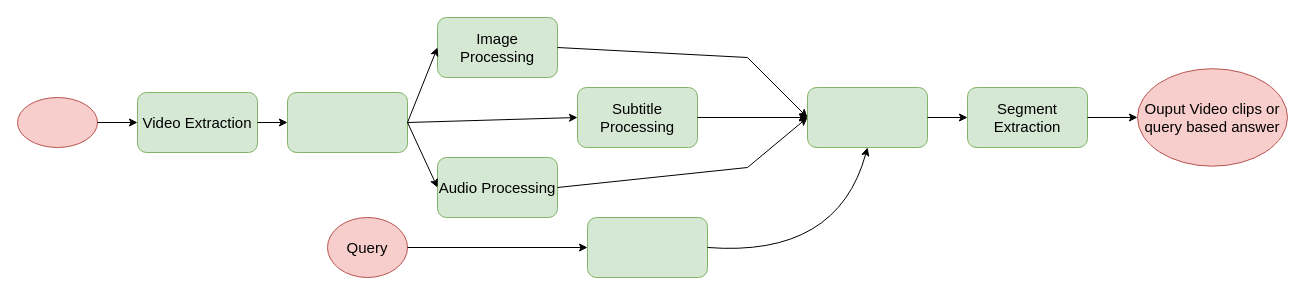
Some shapes in this 1305 by 295 pixel diagram are drawn without their labels. The centre of each missing label's shape, as x and y in pixels:
Feature Integration: the point at 867,117
Input Video: the point at 57,122
Preprocessing: the point at 347,122
Query Analysis: the point at 647,247
